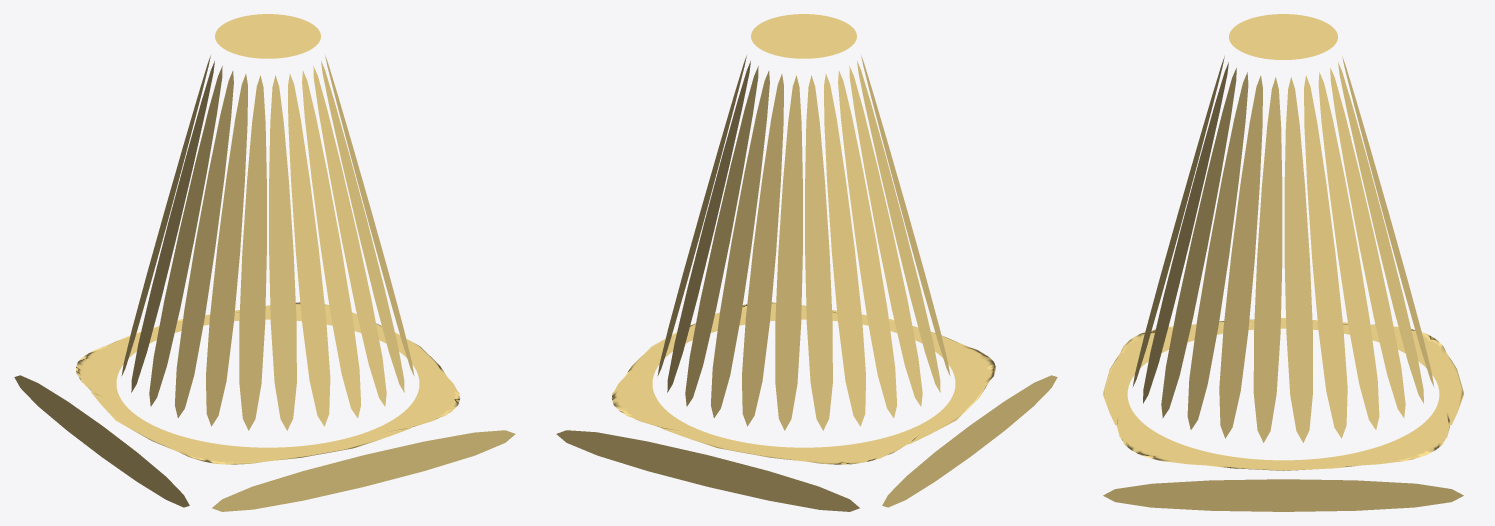
The model's file is pylon.glb.
3 renders of one model, left to right at view 1: azimuth 30°, elevation 25°; view 2: azimuth 150°, elevation 25°; view 3: azimuth 270°, elevation 25°, orthographic. The views are drawn at different scales.
Visible parts, largest first — view 1: pylon; view 2: pylon; view 3: pylon.
Part boxes in pixels (box(x1,y1,x2,y2)): pylon: box(14, 14, 515, 511); pylon: box(556, 14, 1057, 511); pylon: box(1103, 14, 1463, 511).
Size of the model in its own units: 0.12 by 0.132 by 0.12.
